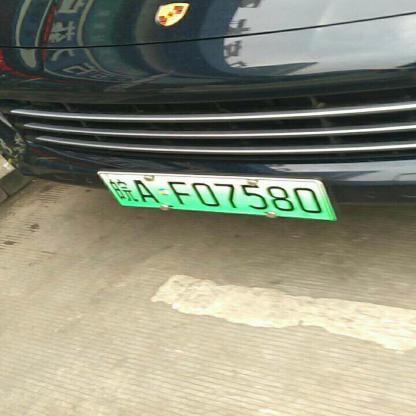lp: (99, 172, 334, 221)
